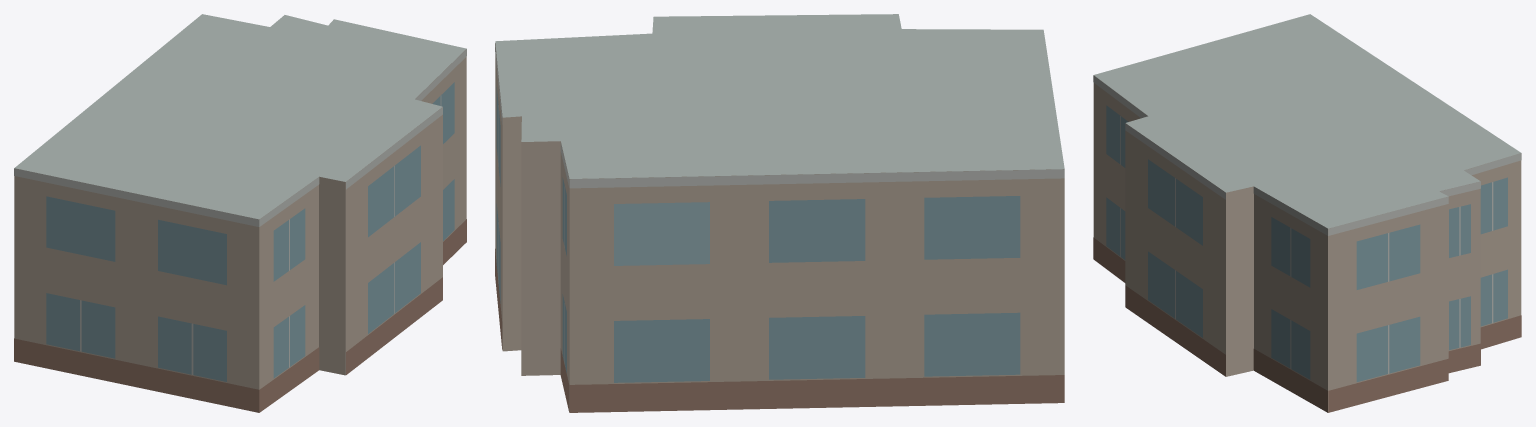
The model's file is survey-upis-32670539.glb.
3 renders of one model, left to right at view 1: azimuth 30°, elevation 25°; view 2: azimuth 150°, elevation 25°; view 3: azimuth 270°, elevation 25°, orthographic. The views are drawn at different scales.
Visible parts, largest first — view 1: survey-upis-32670539.tmp; view 2: survey-upis-32670539.tmp; view 3: survey-upis-32670539.tmp.
Boxes of the visible parts, x1,y1,x2,y2 form: survey-upis-32670539.tmp: (14,14,466,412); survey-upis-32670539.tmp: (495,14,1064,412); survey-upis-32670539.tmp: (1093,14,1521,412).
Bounding box in the file's own units: 15.25 × 6.1 × 12.85.
